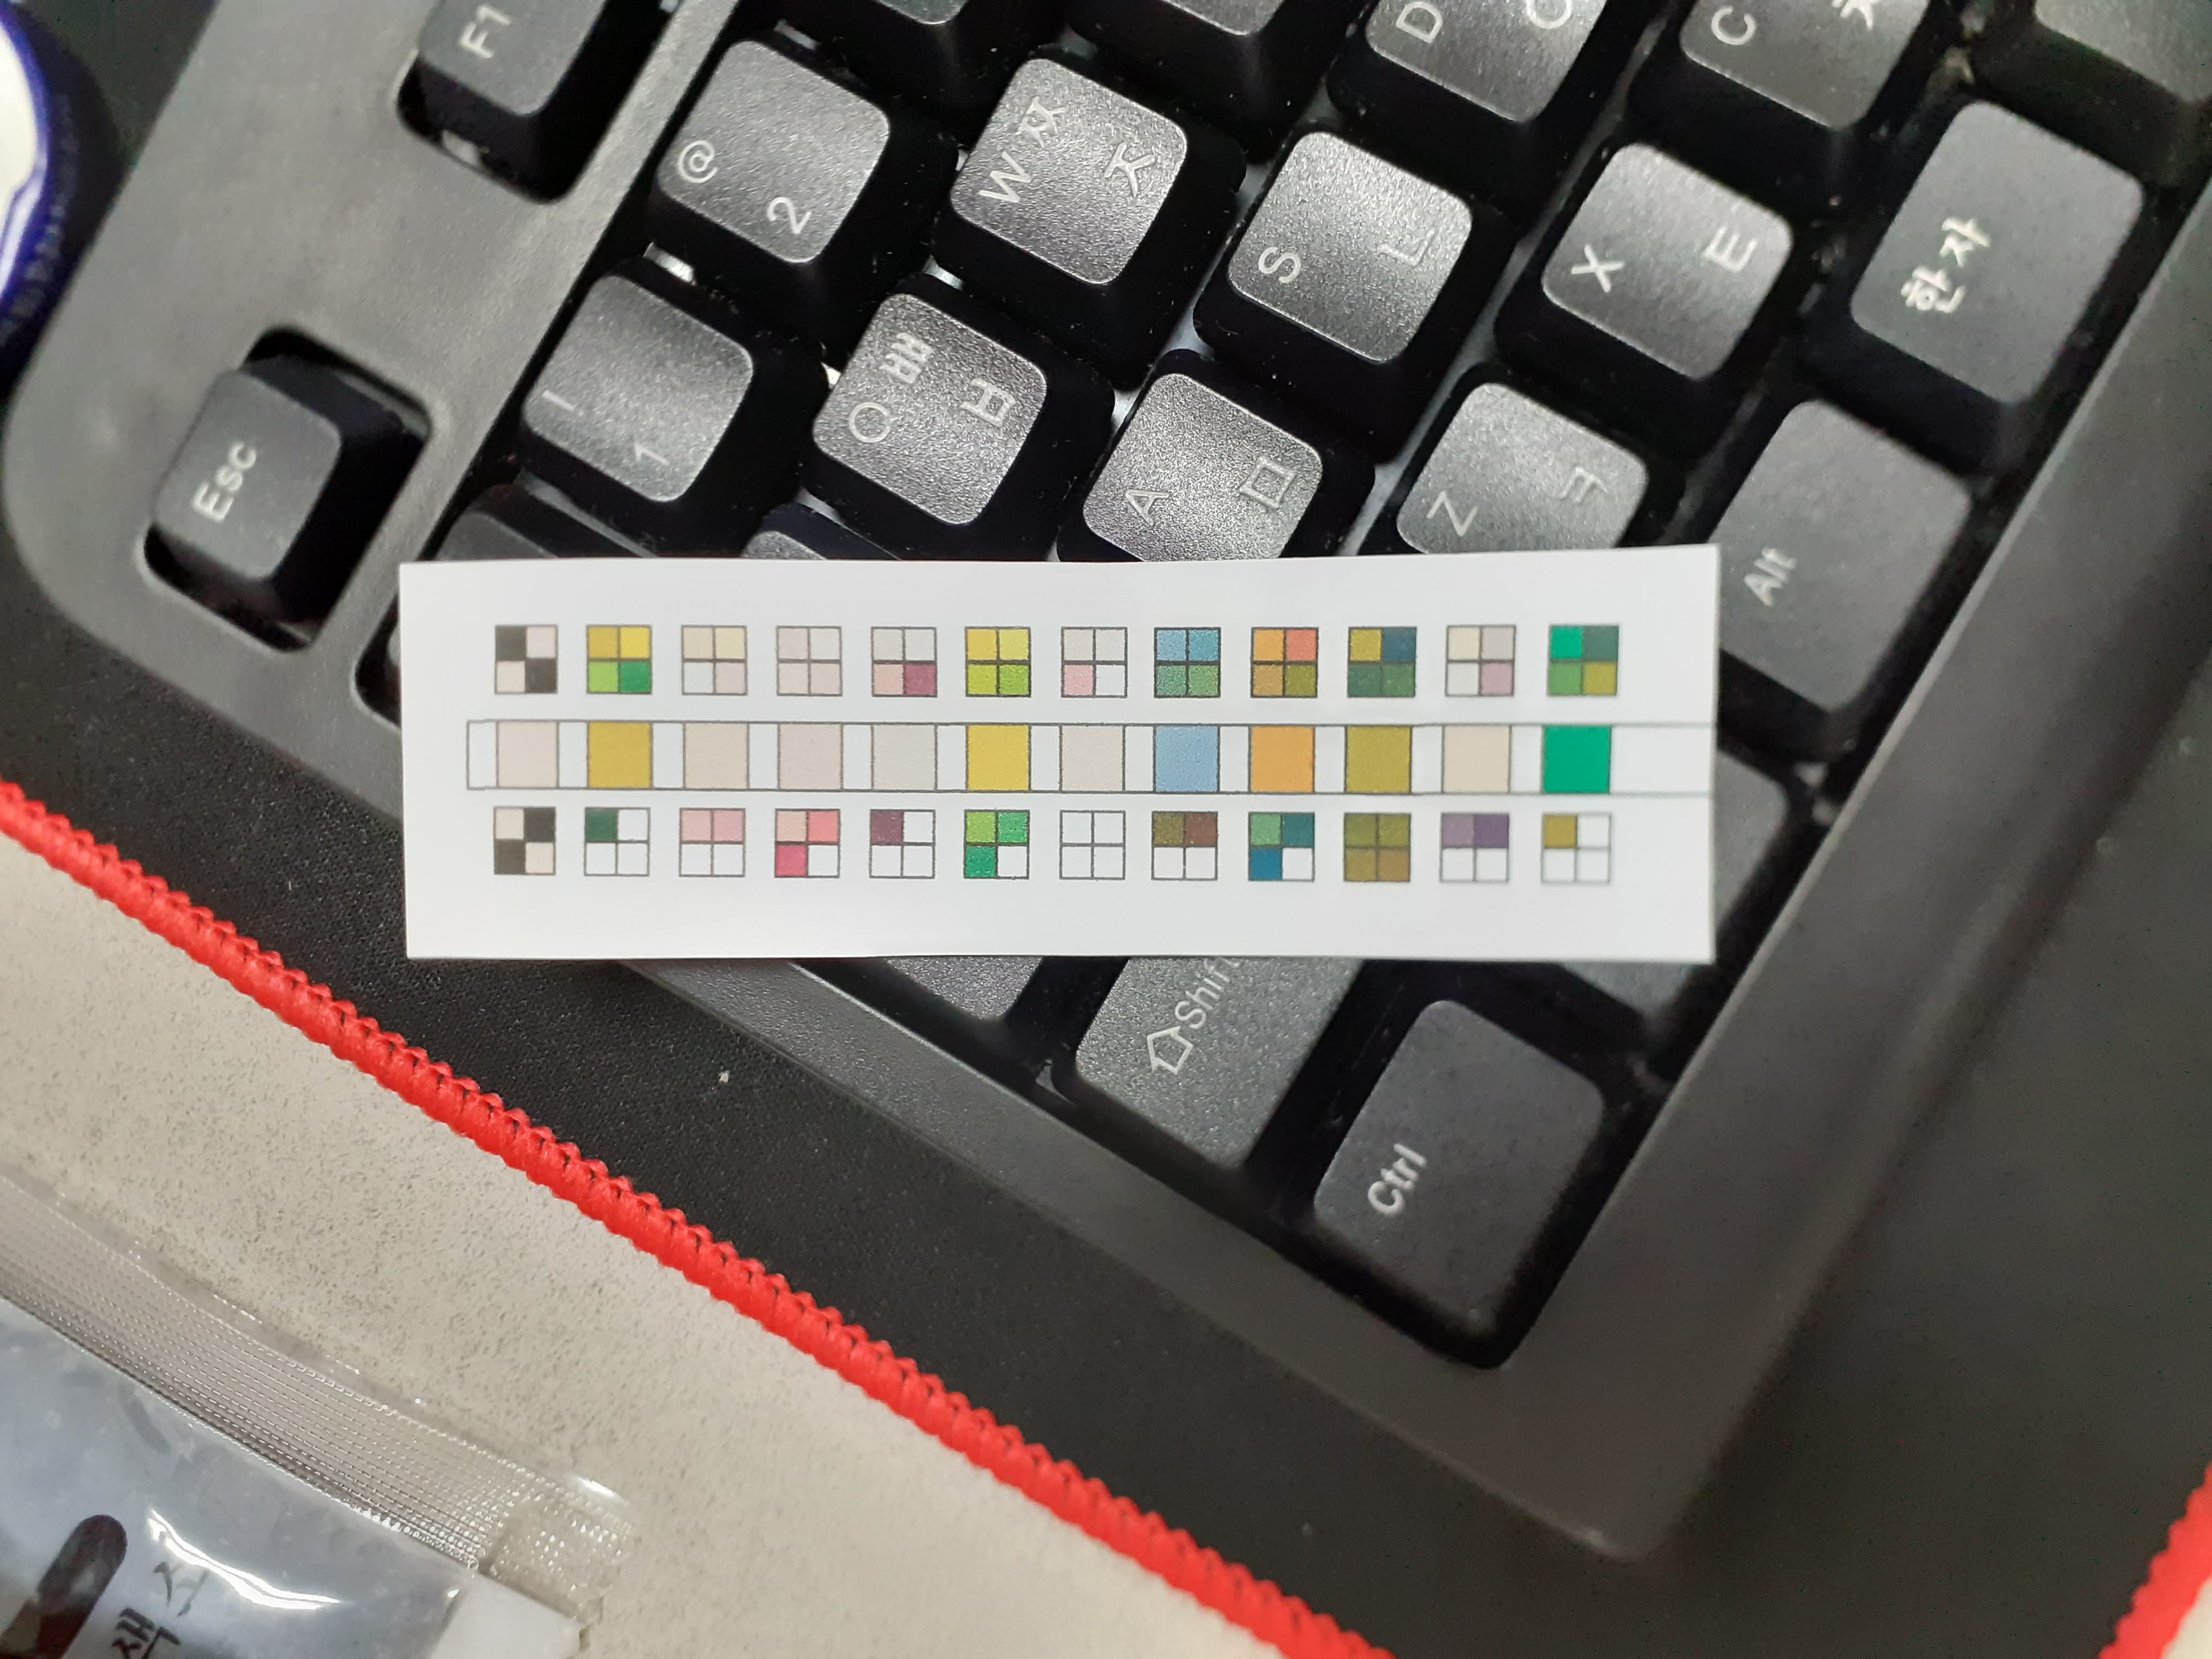tester: (395, 554, 1716, 958)
